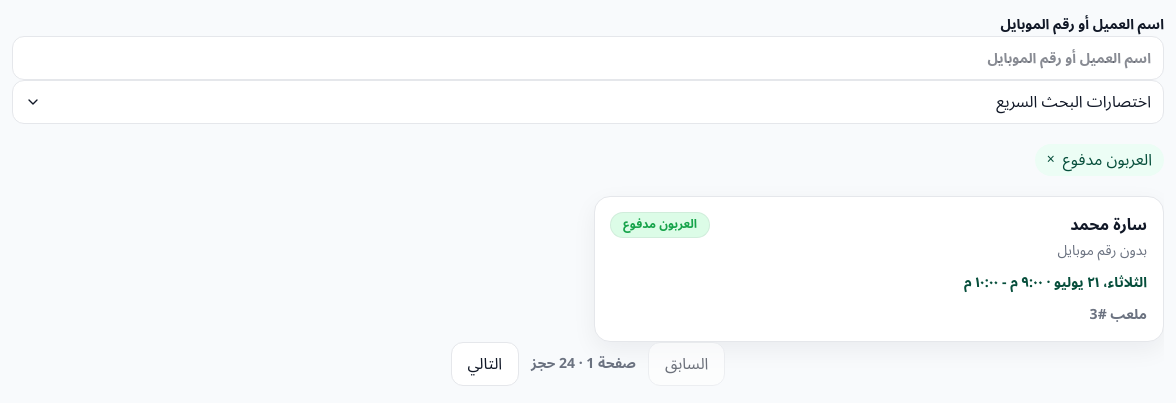
Test: BookingsListPage › preserves filters while navigating server-side pages
This screenshot has width=1176, height=403.
Click the button "التالي". click: (485, 364)
box: x1=451 y1=342 x2=519 y2=386
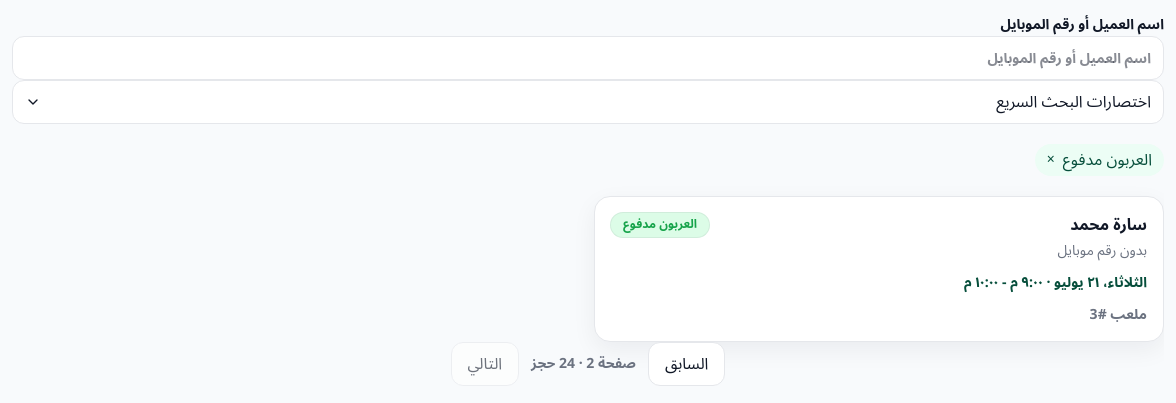
Expected: the text "صفحة 2 · 24 حجز" is shown, x1=531 y1=354 x2=636 y2=374
